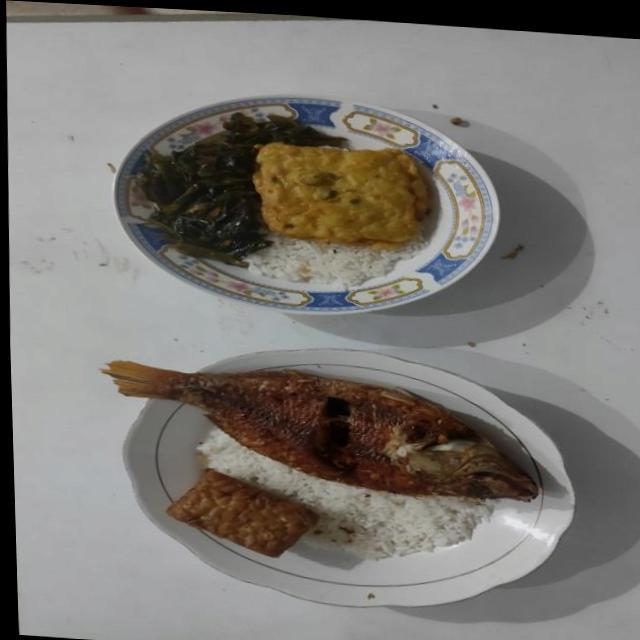ikan_mujair: (102, 361, 536, 500)
nasi_putih: (197, 429, 495, 560), (245, 232, 428, 290)
tempe_goreng: (166, 468, 318, 558)
tumis_kangkung: (136, 112, 346, 267)
